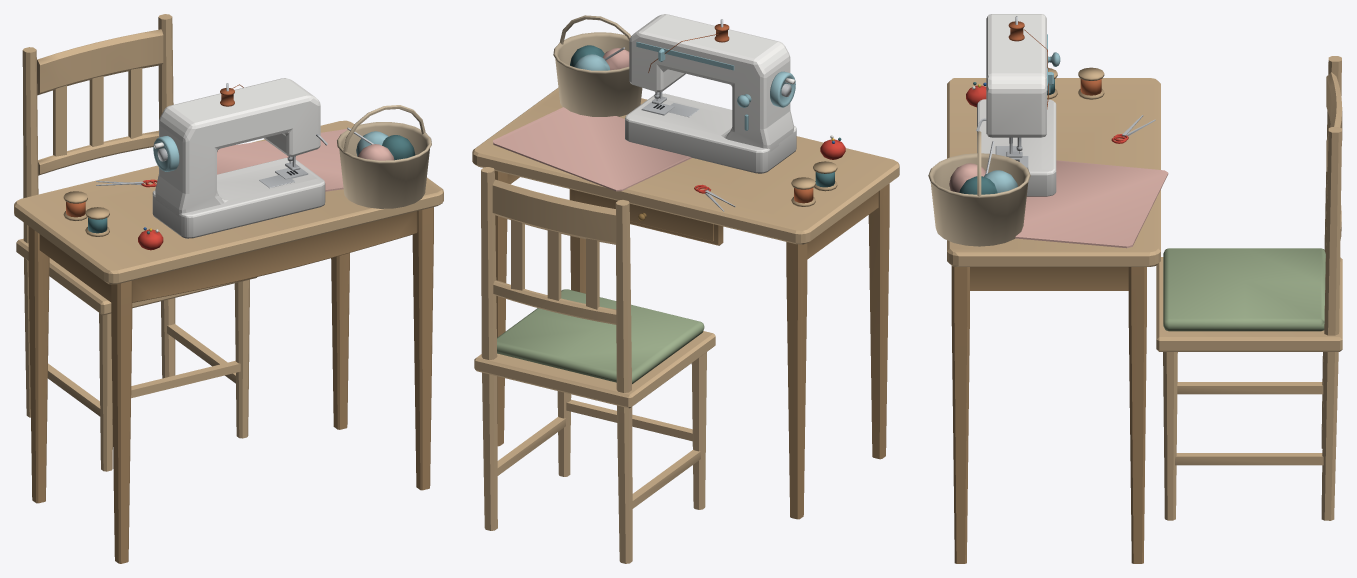
File: sewingTable.glb
The picture shows the model from 3 angles, left to right: view 1: azimuth 30°, elevation 25°; view 2: azimuth 150°, elevation 25°; view 3: azimuth 270°, elevation 25°; orthographic projection. The views are drawn at different scales.
Parts seen in each view (by area): view 1: body, handwheel; view 2: body, handwheel; view 3: body.
Boxes of the visible parts, x1=… form: body: x1=14, y1=14, x2=443, y2=563; handwheel: x1=153, y1=136, x2=179, y2=171; body: x1=472, y1=14, x2=899, y2=563; handwheel: x1=770, y1=71, x2=795, y2=107; body: x1=928, y1=14, x2=1342, y2=563.
Size of the model in its own units: 0.9 by 1.08 by 0.89.
